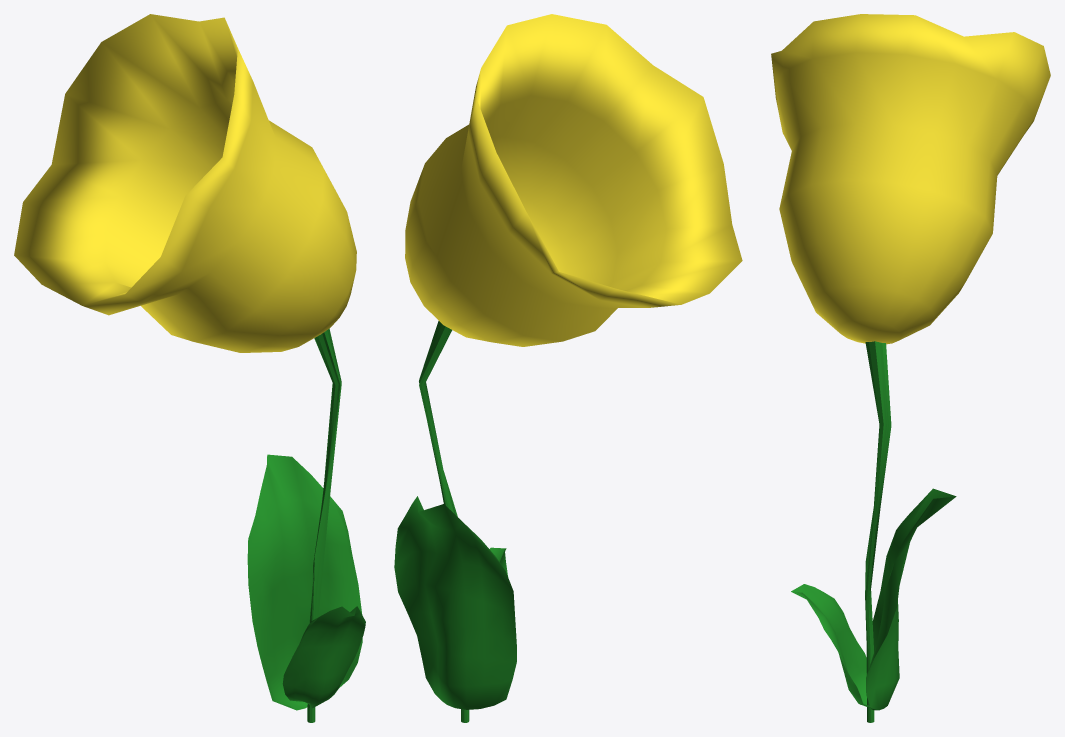
File: mortartulip2.fbx
The picture shows the model from 3 angles, left to right: view 1: azimuth 30°, elevation 25°; view 2: azimuth 150°, elevation 25°; view 3: azimuth 270°, elevation 25°; orthographic projection. The views are drawn at different scales.
Parts seen in each view (by area): view 1: Icosphere, Tulip; view 2: Icosphere, Tulip; view 3: Icosphere, Tulip.
Part boxes in pixels (box(x1,y1,x2,y2)): Icosphere: box(14, 14, 356, 352); Tulip: box(247, 328, 365, 722); Icosphere: box(405, 14, 742, 346); Tulip: box(394, 321, 516, 722); Icosphere: box(771, 14, 1050, 344); Tulip: box(791, 341, 956, 722).
Bounding box in the file's own units: 319 × 693 × 260.
